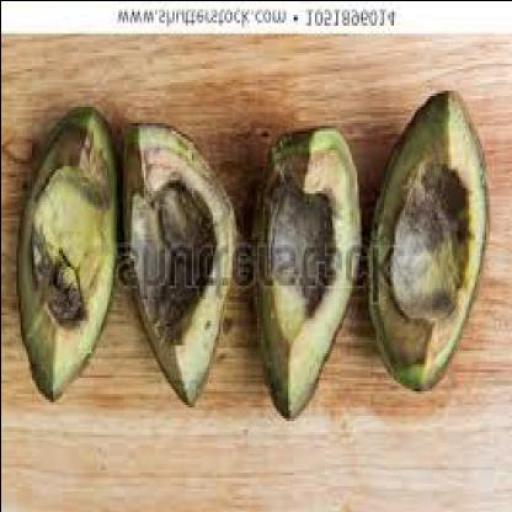biodegradable: (364, 92, 486, 393), (116, 125, 231, 409), (248, 127, 356, 423), (12, 108, 118, 404)
